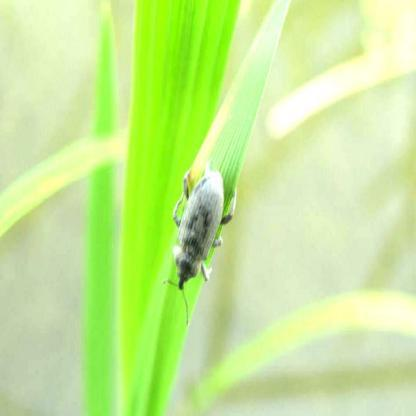rice-bug: (164, 155, 242, 286)
